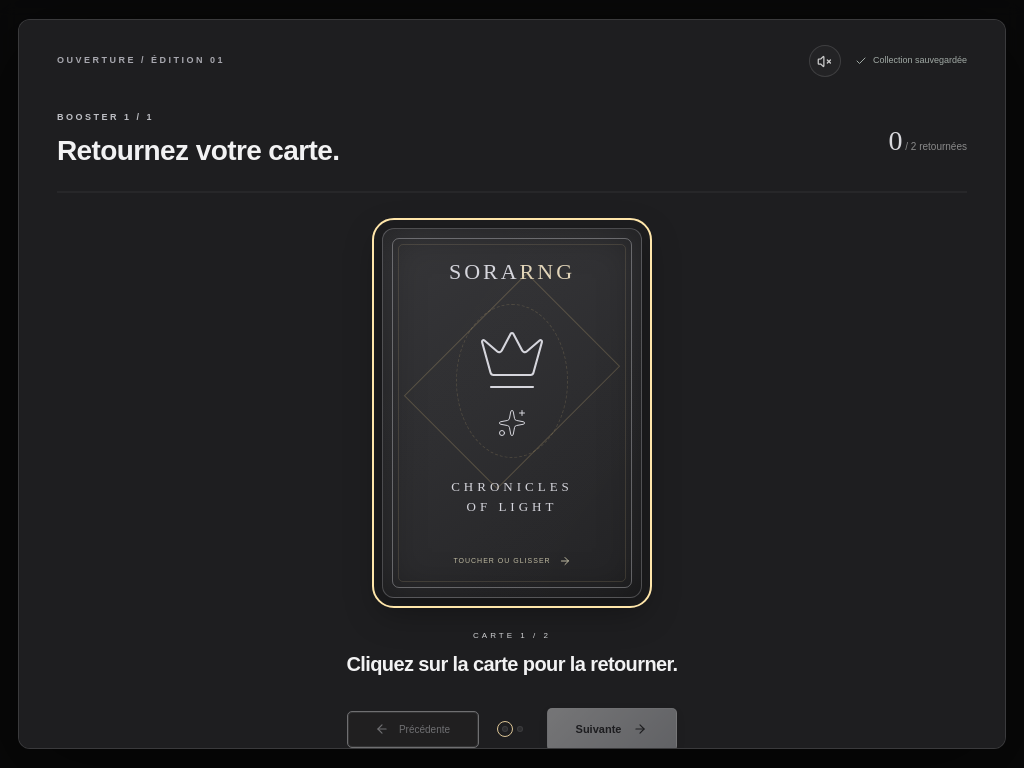
Test case: cliquer sur une face retournée passe au dos suivant sans révéler la prochaine carte
What coordinates should you click on to do the following:
click the button with aria-label "Retourner la carte 1"
I would click on:
 (512, 413)
Its box is [382,228,642,598].
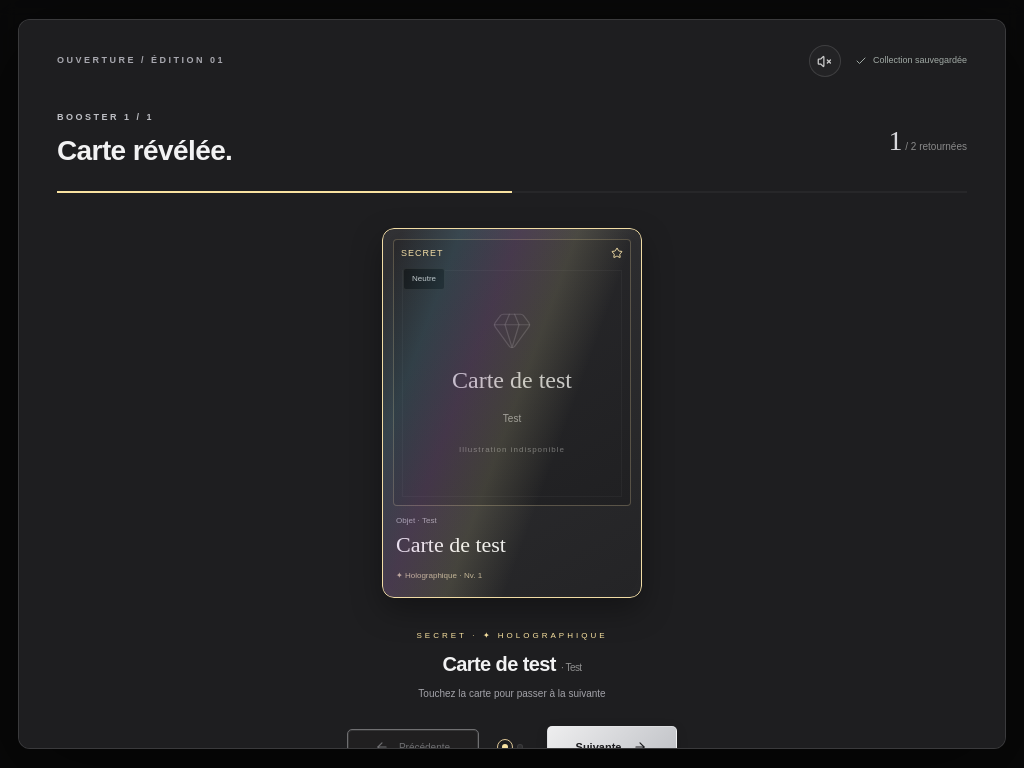
What coordinates should you click on to do the following:
click the button named "Passer à la carte 2"
I would click on:
 (512, 413)
Its box is [382,228,642,598].
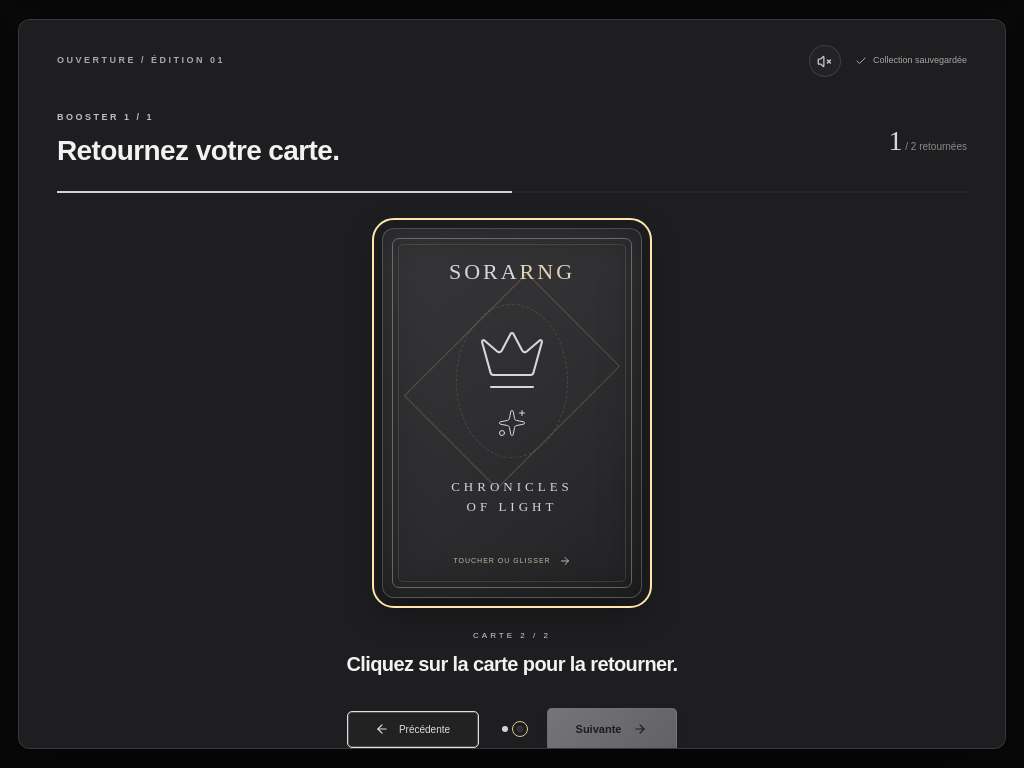
Result: the button with aria-label "Retourner la carte 2" is enabled
Result: the button "Précédente" is enabled at [348,712,478,747]
Result: the button "Suivante" is disabled at [546,708,676,749]
What coordinates should you click on to do the following:
click the button with aria-label "Retourner la carte 2"
I would click on:
 (512, 413)
Its box is [382,228,642,598].
(page scrolled)
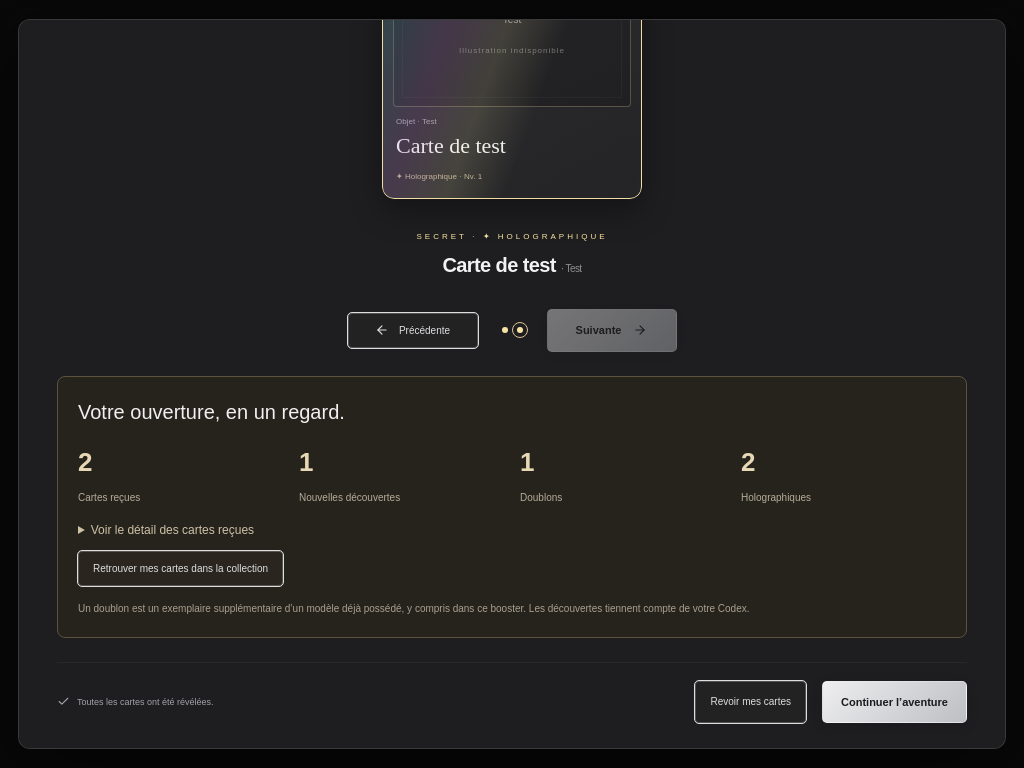
Result: the button "Continuer l’aventure" is enabled at [822,681,967,723]
